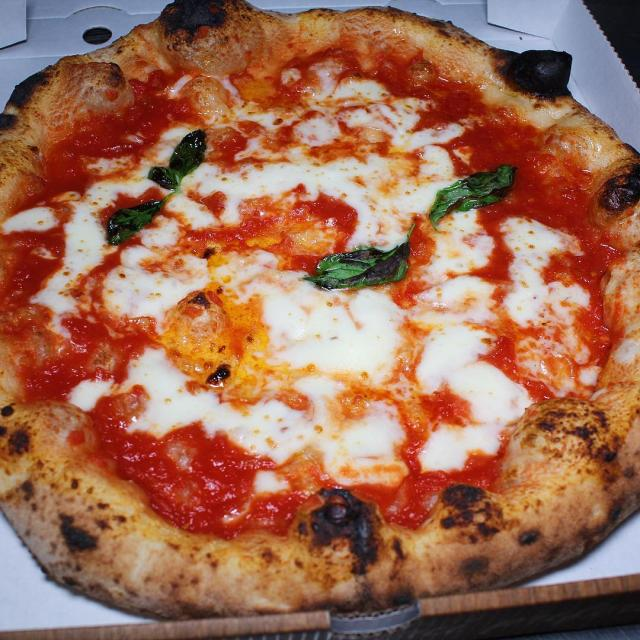basil: (298, 220, 421, 294), (427, 162, 518, 234), (102, 194, 181, 247), (168, 126, 209, 182), (145, 167, 183, 195)
pizza: (0, 0, 640, 622)
